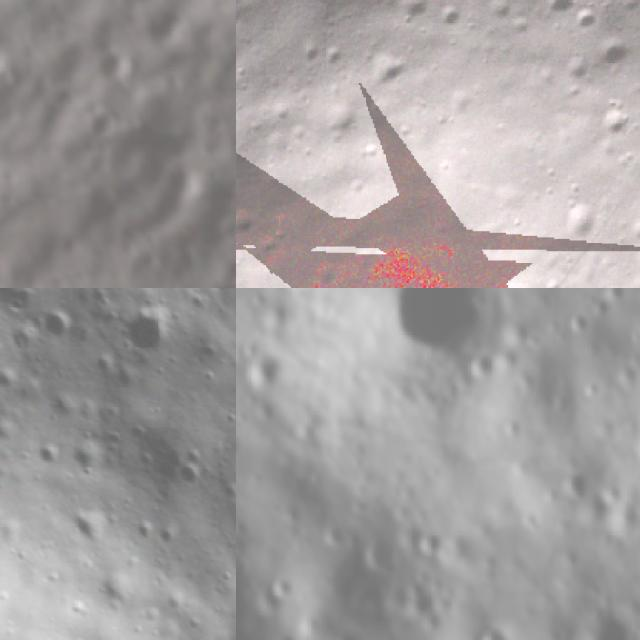crater: (372, 288, 495, 371), (115, 302, 181, 364), (550, 192, 614, 254), (583, 28, 640, 89), (356, 44, 414, 103), (572, 601, 639, 640), (589, 99, 640, 150), (66, 504, 116, 556), (244, 349, 287, 397), (64, 433, 108, 477), (356, 533, 402, 575), (38, 304, 78, 345), (428, 0, 470, 39), (532, 0, 585, 30), (236, 198, 266, 249), (565, 2, 603, 40), (555, 464, 593, 502), (389, 0, 438, 29), (30, 438, 67, 476), (414, 528, 446, 565), (172, 462, 206, 495), (316, 518, 347, 552), (263, 570, 297, 601), (583, 288, 612, 320), (562, 305, 593, 334), (472, 621, 513, 640), (186, 276, 236, 288), (600, 288, 626, 304), (291, 0, 328, 9), (267, 631, 300, 640)
